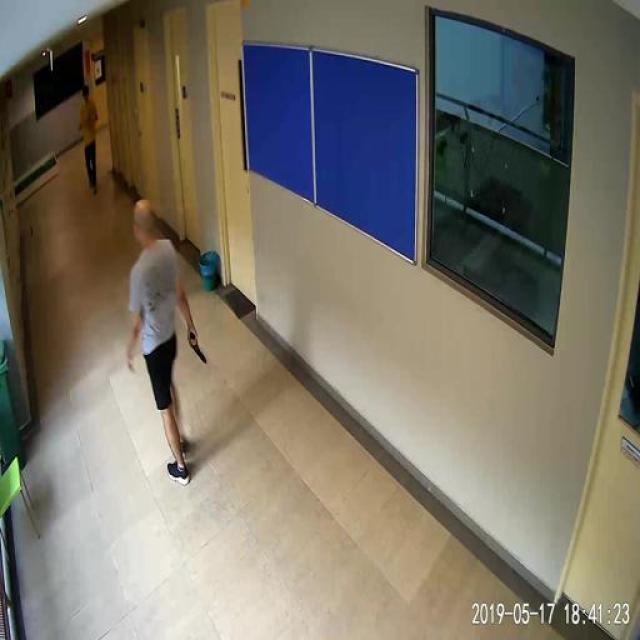Gun: (180, 316, 215, 376)
